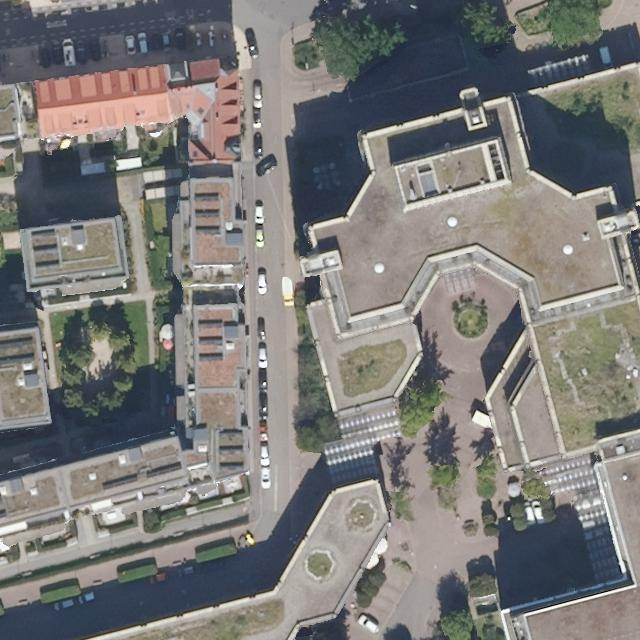PV: (99, 473, 140, 492), (145, 461, 183, 480), (0, 336, 34, 352), (0, 353, 36, 368), (32, 228, 56, 240), (33, 243, 56, 255), (36, 259, 59, 270), (198, 319, 223, 329), (220, 428, 242, 438), (199, 336, 222, 345), (196, 209, 219, 218), (219, 444, 242, 453), (196, 226, 220, 234), (196, 193, 219, 201), (199, 352, 222, 360), (221, 461, 243, 469)
